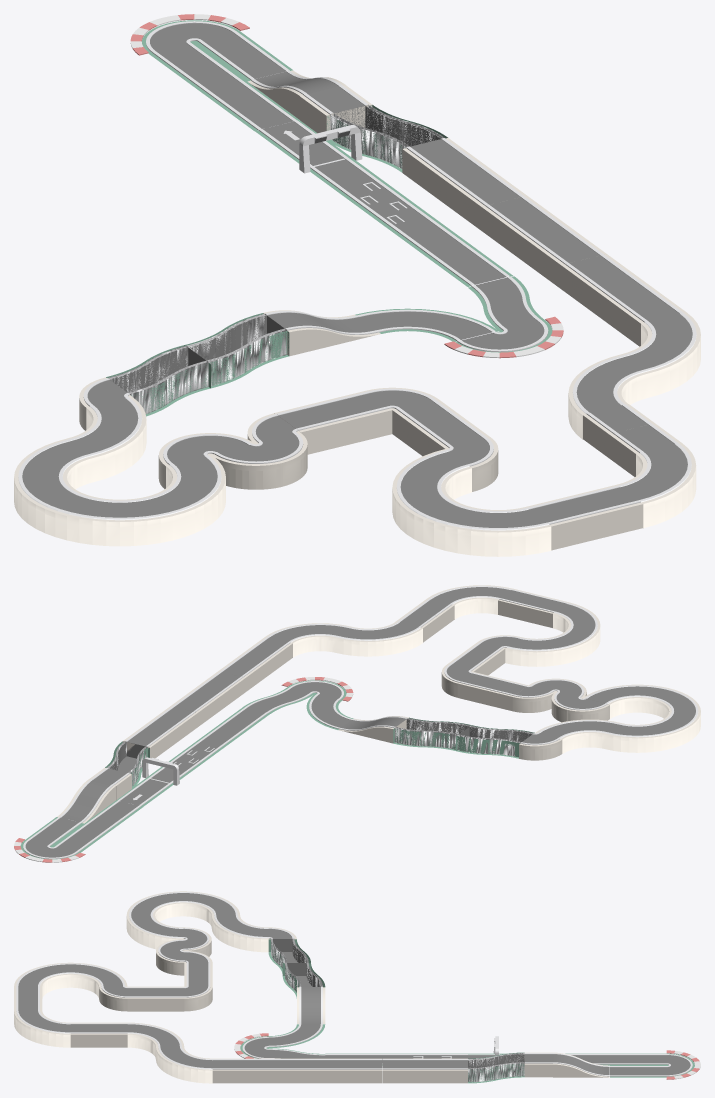
Rendered from spafrancorchamps.glb.
3 views of the same model, one above another, from view 1: azimuth 30°, elevation 25°; view 2: azimuth 150°, elevation 25°; view 3: azimuth 270°, elevation 25° (orthographic). The views are drawn at different scales.
Visible parts, largest first — view 1: roadCornerBridgeLarge(Clone).005, roadCornerBridgeLarge(Clone).006, roadCurved(Clone).003, roadCornerBridgeLarge(Clone).009, roadCornerBridgeLarge(Clone).003, roadCornerBridgeLarge(Clone).007, roadCornerBridgeLarge(Clone).001, roadCurved(Clone).002, roadCornerBridgeLarge(Clone).008, roadCornerBridgeLarge(Clone).002, roadCornerBridgeLarge(Clone).004, roadCurved(Clone).001 (+41 smaller); view 2: roadCornerBridgeLarge(Clone).008, roadCornerBridgeLarge(Clone).004, roadCornerBridgeLarge(Clone).002, roadCurved(Clone).002, roadCurved(Clone).003, roadCornerBridgeLarge(Clone).001, roadCornerBridgeLarge(Clone).007, roadCornerBridgeLarge(Clone).009, roadCornerBridgeLarge(Clone).003, roadRampLongCurvedWall(Clone).001, roadCornerBridgeLarge(Clone).006, roadCornerBridgeLarge(Clone).005 (+34 smaller); view 3: roadCornerBridgeLarge(Clone).009, roadCornerBridgeLarge(Clone).003, roadCornerBridgeLarge(Clone).001, roadCurved(Clone).001, roadCornerBridgeLarge(Clone).007, roadCornerBridgeLarge(Clone).002, roadCornerBridgeLarge(Clone).005, roadCornerBridgeLarge(Clone).004, roadCornerBridgeLarge(Clone).008, roadCornerBridgeLarge(Clone).006, roadRampLongCurvedWall(Clone).001, roadRampLongCurvedWall(Clone).002 (+31 smaller).
Boxes of the visible parts, bbox=[...] form: roadCornerBridgeLarge(Clone).005: bbox=[406, 499, 551, 556]; roadCornerBridgeLarge(Clone).006: bbox=[28, 488, 172, 546]; roadCurved(Clone).003: bbox=[184, 313, 289, 388]; roadCornerBridgeLarge(Clone).009: bbox=[67, 396, 146, 481]; roadCornerBridgeLarge(Clone).003: bbox=[617, 443, 696, 528]; roadCornerBridgeLarge(Clone).007: bbox=[147, 455, 225, 540]; roadCornerBridgeLarge(Clone).001: bbox=[622, 312, 700, 397]; roadCurved(Clone).002: bbox=[106, 345, 210, 416]; roadCornerBridgeLarge(Clone).008: bbox=[14, 438, 93, 523]; roadCornerBridgeLarge(Clone).002: bbox=[568, 354, 647, 439]; roadCornerBridgeLarge(Clone).004: bbox=[392, 449, 471, 533]; roadCurved(Clone).001: bbox=[326, 105, 447, 172]; roadCornerBridgeLarge(Clone).008: bbox=[605, 718, 692, 752]; roadCornerBridgeLarge(Clone).004: bbox=[505, 632, 591, 666]; roadCornerBridgeLarge(Clone).002: bbox=[336, 622, 422, 656]; roadCurved(Clone).002: bbox=[456, 725, 534, 758]; roadCurved(Clone).003: bbox=[393, 717, 471, 750]; roadCornerBridgeLarge(Clone).001: bbox=[266, 623, 351, 657]; roadCornerBridgeLarge(Clone).007: bbox=[583, 684, 668, 718]; roadCornerBridgeLarge(Clone).009: bbox=[535, 719, 621, 753]; roadCornerBridgeLarge(Clone).003: bbox=[427, 585, 513, 619]; roadRampLongCurvedWall(Clone).001: bbox=[57, 779, 115, 823]; roadCornerBridgeLarge(Clone).006: bbox=[653, 688, 700, 739]; roadCornerBridgeLarge(Clone).005: bbox=[553, 602, 600, 652]; roadCornerBridgeLarge(Clone).009: bbox=[211, 915, 268, 952]; roadCornerBridgeLarge(Clone).003: bbox=[14, 1010, 70, 1047]; roadCornerBridgeLarge(Clone).001: bbox=[156, 1046, 212, 1083]; roadCurved(Clone).001: bbox=[468, 1052, 524, 1083]; roadCornerBridgeLarge(Clone).007: bbox=[126, 915, 183, 949]; roadCornerBridgeLarge(Clone).002: bbox=[127, 1022, 184, 1058]; roadCornerBridgeLarge(Clone).005: bbox=[14, 962, 70, 998]; roadCornerBridgeLarge(Clone).004: bbox=[70, 962, 127, 997]; roadCornerBridgeLarge(Clone).008: bbox=[183, 891, 239, 926]; roadCornerBridgeLarge(Clone).006: bbox=[126, 891, 183, 921]; roadRampLongCurvedWall(Clone).001: bbox=[553, 1052, 609, 1077]; roadRampLongCurvedWall(Clone).002: bbox=[297, 986, 325, 1023].
Size of the model in its own units: 14.94 by 0.6782 by 24.21.
